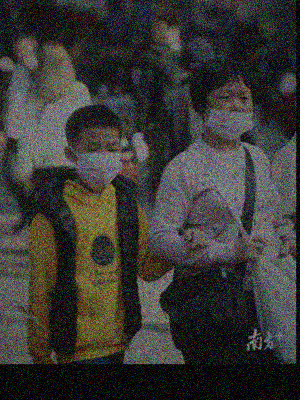with_mask: (202, 84, 255, 142), (75, 138, 122, 190)
